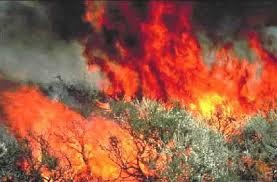fire: (40, 16, 277, 176)
